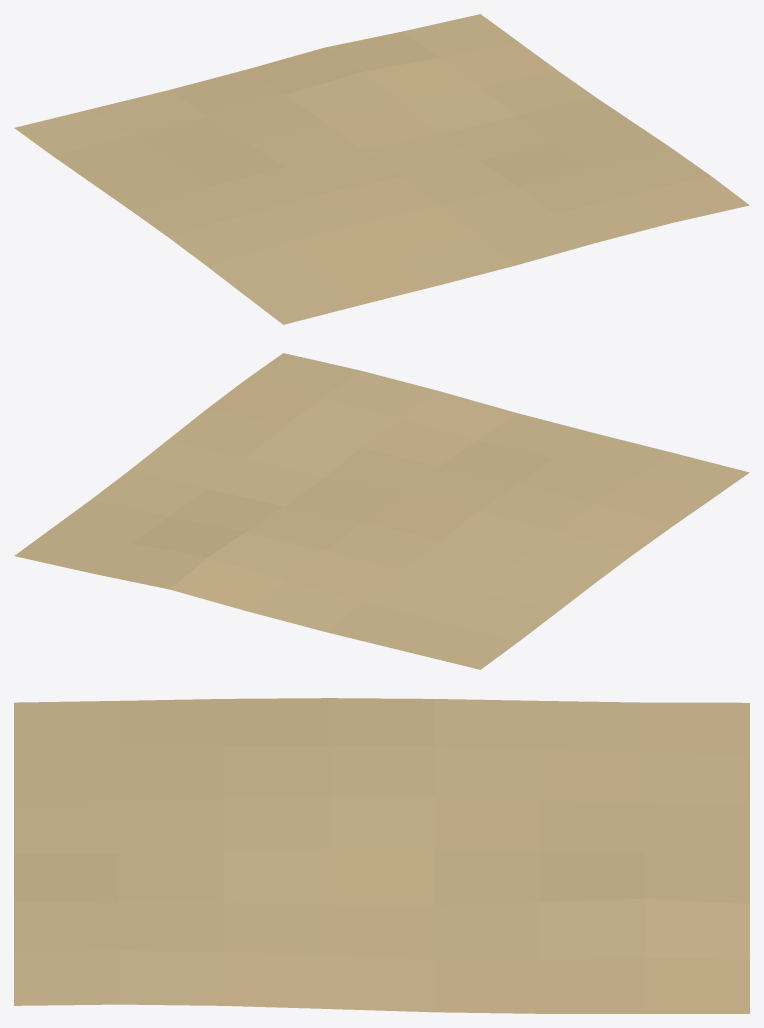
File: Ground.fbx
3 renders of one model, top to bottom at view 1: azimuth 30°, elevation 25°; view 2: azimuth 150°, elevation 25°; view 3: azimuth 270°, elevation 25°, orthographic. The views are drawn at different scales.
Parts seen in each view (by area): view 1: Plane; view 2: Plane; view 3: Plane.
Part boxes in pixels (x1,y1,x2,y2): Plane: [14, 14, 749, 324]; Plane: [14, 353, 749, 669]; Plane: [14, 698, 749, 1013].
Size of the model in its own units: 1993 by 34.3 by 1993.
